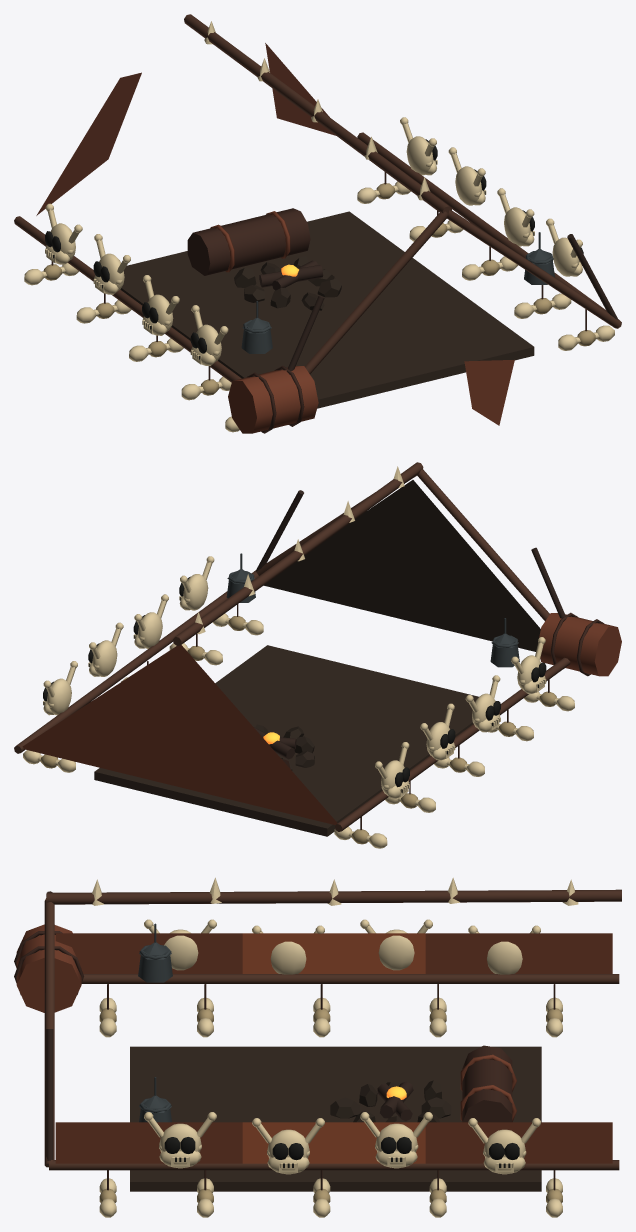
The model's file is tent.glb.
3 renders of one model, top to bottom at view 1: azimuth 30°, elevation 25°; view 2: azimuth 150°, elevation 25°; view 3: azimuth 270°, elevation 25°, orthographic. The views are drawn at different scales.
Parts seen in each view (by area): view 1: OrcWarCampTent, Bedroll, Rolled_Entrance_Flap, Ridge_Pole, Right_Eave_Pole, Left_Eave_Pole; view 2: OrcWarCampTent, Rolled_Entrance_Flap, Ridge_Pole, Right_Eave_Pole, Left_Eave_Pole; view 3: OrcWarCampTent, Ridge_Pole, Left_Eave_Pole, Right_Eave_Pole, Rolled_Entrance_Flap, Bedroll.
Part boxes in pixels (box(x1,y1,x2,y2)): OrcWarCampTent: box(24, 21, 620, 433); Bedroll: box(187, 208, 310, 275); Rolled_Entrance_Flap: box(228, 366, 318, 433); Ridge_Pole: box(184, 14, 451, 213); Right_Eave_Pole: box(357, 132, 621, 328); Left_Eave_Pole: box(14, 216, 241, 382); OrcWarCampTent: box(22, 466, 604, 848); Rolled_Entrance_Flap: box(539, 613, 621, 676); Ridge_Pole: box(173, 462, 423, 645); Right_Eave_Pole: box(14, 571, 258, 753); Left_Eave_Pole: box(335, 657, 570, 831); OrcWarCampTent: box(14, 877, 612, 1217); Ridge_Pole: box(46, 889, 621, 904); Left_Eave_Pole: box(81, 974, 619, 983); Right_Eave_Pole: box(49, 1160, 619, 1170); Rolled_Entrance_Flap: box(16, 924, 81, 1012); Bedroll: box(462, 1045, 512, 1122).
Size of the model in its own units: 6.13 by 3.66 by 7.31.
